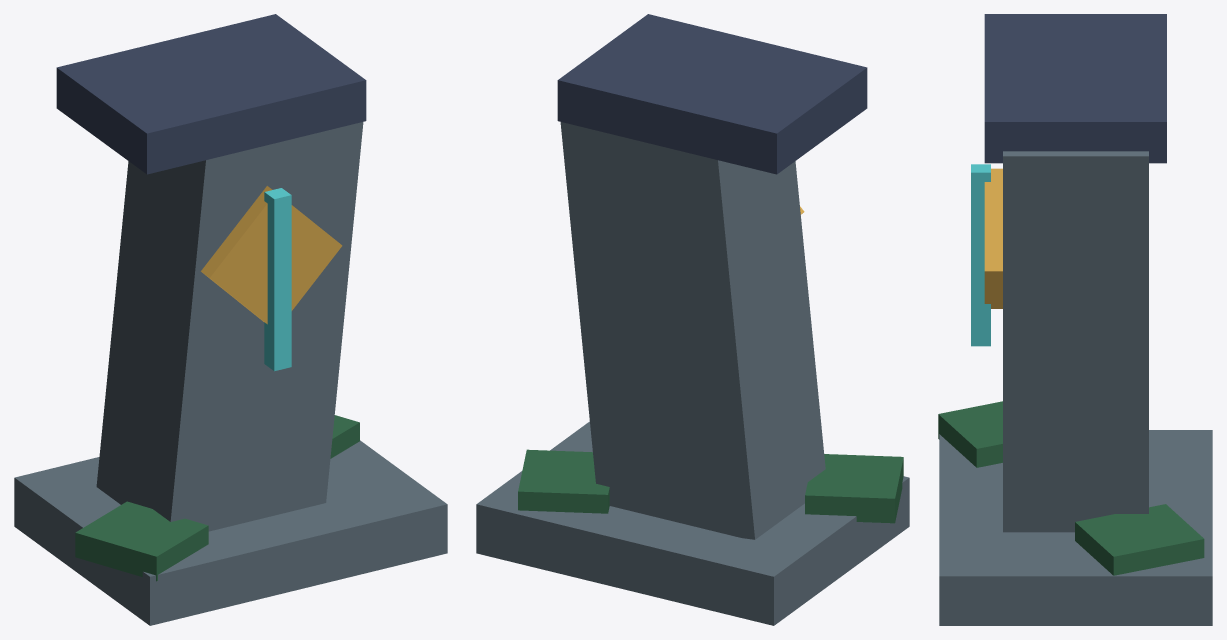
File: GreenwoodWaystone.glb
The picture shows the model from 3 angles, left to right: view 1: azimuth 30°, elevation 25°; view 2: azimuth 150°, elevation 25°; view 3: azimuth 270°, elevation 25°; orthographic projection.
Parts seen in each view (by area): view 1: GreenwoodWaystone; view 2: GreenwoodWaystone; view 3: GreenwoodWaystone.
Boxes of the visible parts, <box> form: GreenwoodWaystone: <box>14,14,447,625</box>; GreenwoodWaystone: <box>476,14,909,625</box>; GreenwoodWaystone: <box>938,14,1212,625</box>.
Bounding box in the file's own units: 4.19 × 5.75 × 3.01.
